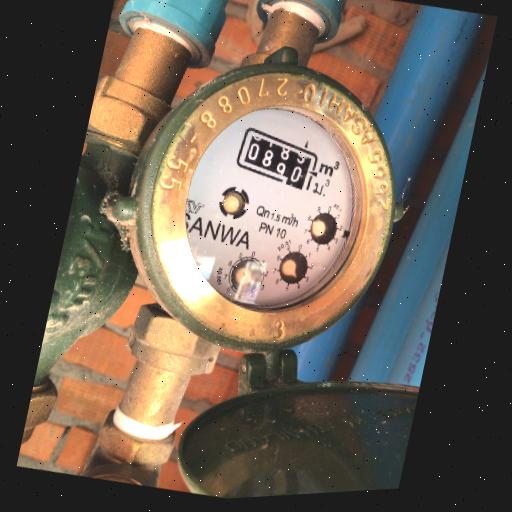0: (284, 150, 312, 192), (242, 133, 265, 166)
8: (270, 144, 297, 179), (255, 137, 280, 172)
border_water_meter_number: (227, 120, 326, 199)
